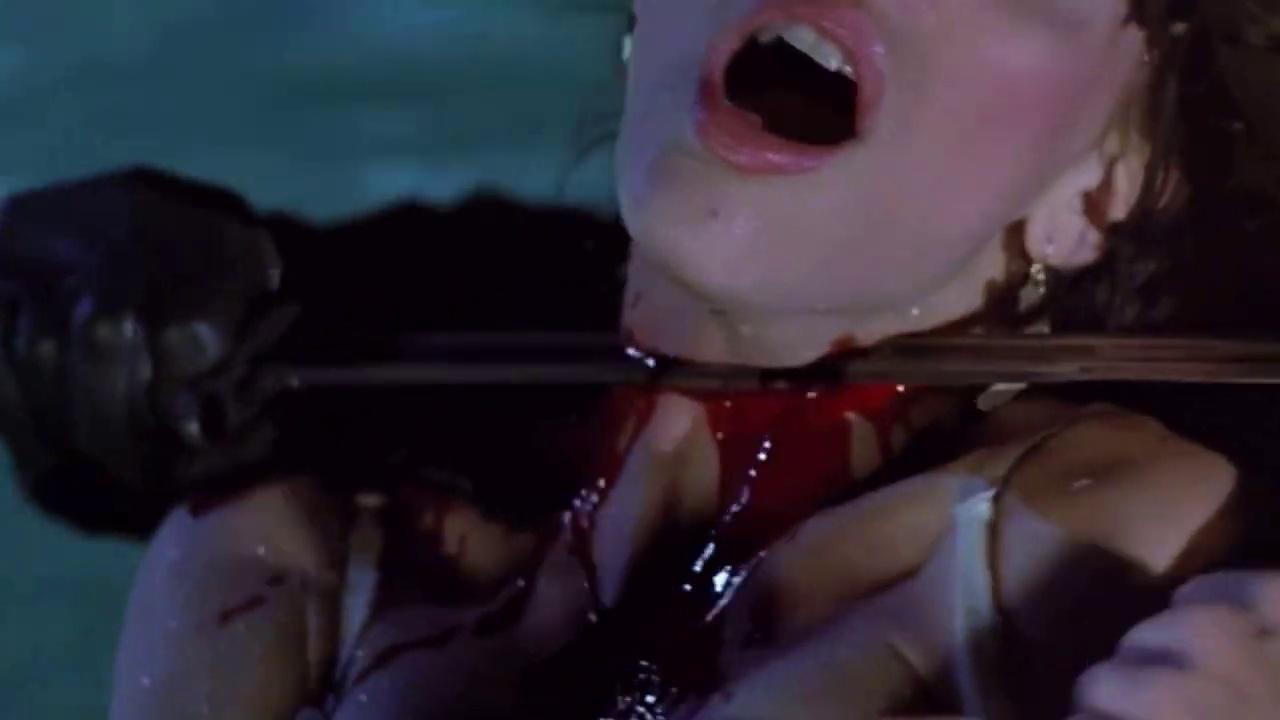Fire: (600, 380, 908, 698), (374, 469, 538, 616), (561, 390, 661, 562)
